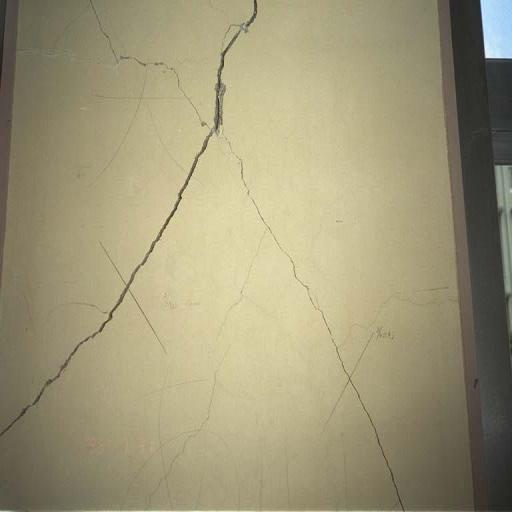spalling: (3, 7, 264, 446), (235, 159, 412, 507)
